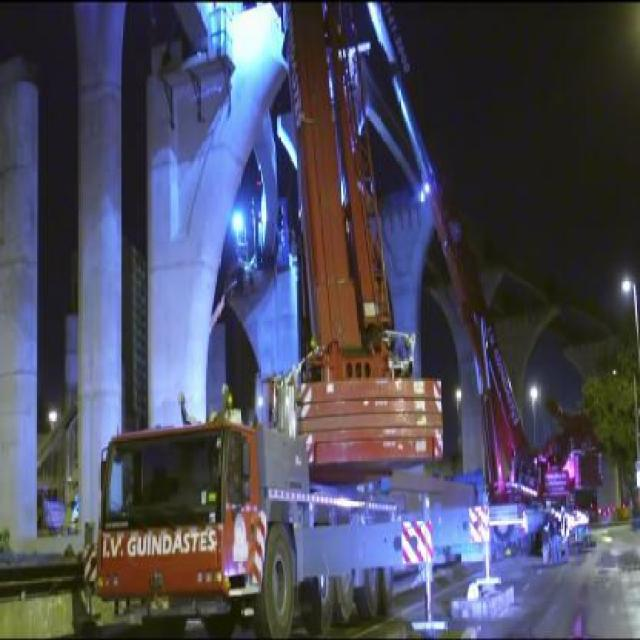Mobile Crane: (90, 2, 507, 640), (366, 0, 591, 555)
